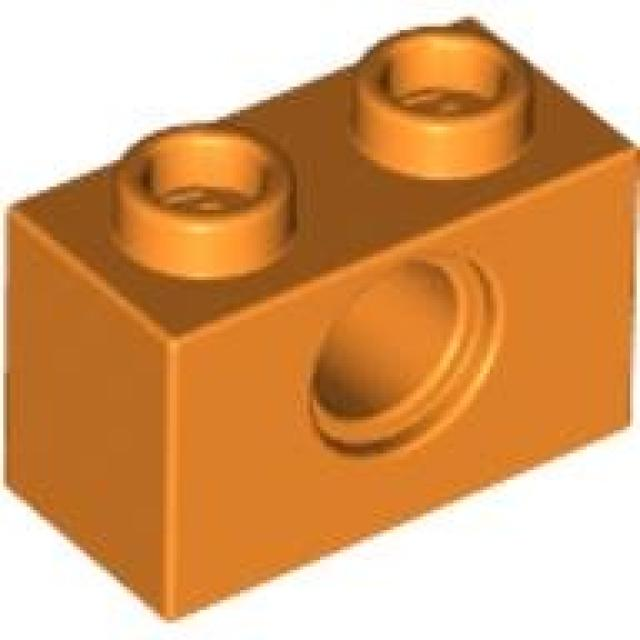Orange_Small: (7, 17, 640, 620)
